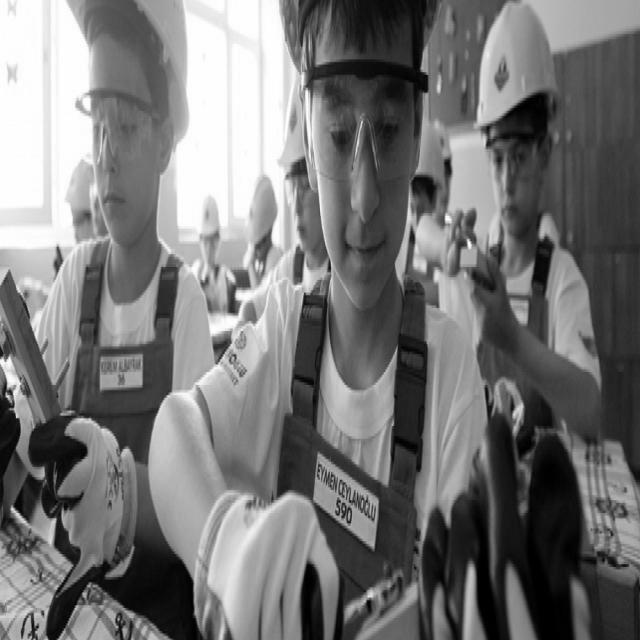construction helmet: (476, 2, 560, 138), (131, 0, 189, 146), (242, 172, 279, 245), (416, 111, 450, 188), (63, 155, 94, 217), (200, 200, 220, 236)
